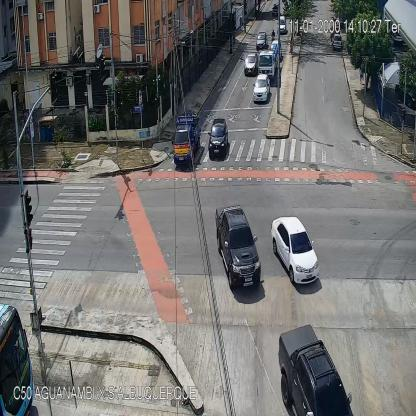bus: (0, 302, 33, 416)
car: (278, 326, 352, 415), (216, 206, 260, 289), (271, 216, 321, 286), (208, 117, 229, 161), (253, 73, 269, 101), (244, 52, 258, 75), (256, 31, 268, 51), (278, 15, 286, 36), (332, 34, 342, 48), (272, 5, 279, 17)
motorbike: (272, 29, 276, 44)
person: (232, 22, 236, 45), (238, 16, 242, 32), (289, 36, 292, 55)
truck: (172, 116, 201, 165), (258, 42, 278, 82)
